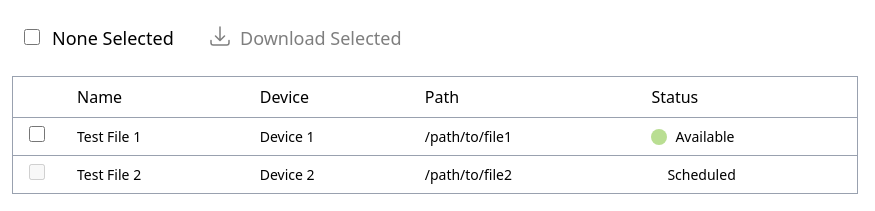
Test case: FileTable › allows selecting available files
Note: Click the row for the first file (available)
Click the text "Test File 1": x=435, y=136 x1=12 y1=118 x2=858 y2=156
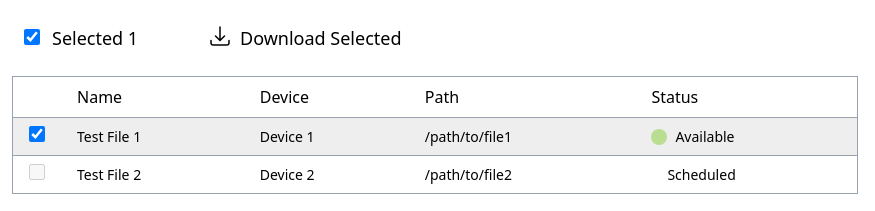
Result: the text "Selected 1" is shown at x1=52 y1=26 x2=138 y2=50
Result: the button "Download Selected" is enabled at x1=192 y1=16 x2=418 y2=60
